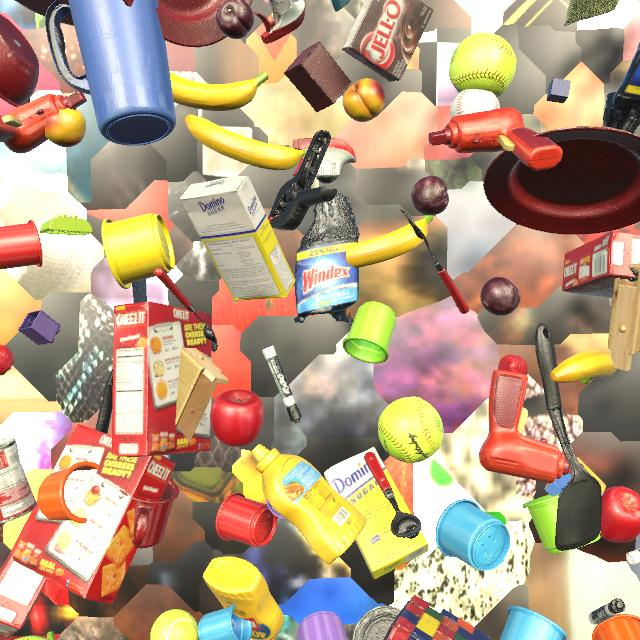ycb_002_master_chef_can: (353, 605, 401, 640)
ycb_003_cracker_box: (8, 424, 175, 604), (112, 301, 212, 458), (562, 231, 640, 298), (0, 552, 47, 638)
ycb_004_sugar_box: (180, 176, 296, 300), (324, 447, 429, 579)
ycb_005_tomato_soup_can: (0, 438, 37, 524)
ycb_006_mustard_bottle: (251, 444, 367, 564), (203, 556, 284, 640)
ycb_008_pudding_box: (341, 0, 434, 82)
ycb_011_banana: (184, 114, 306, 170), (346, 215, 433, 268), (170, 72, 269, 111), (550, 350, 617, 384), (47, 631, 55, 640)
ycb_012_strawberry: (498, 354, 528, 375), (0, 345, 14, 376)
ycb_013_apple: (210, 389, 264, 446), (600, 486, 640, 543)
ycb_015_peach: (343, 78, 385, 122), (45, 108, 86, 147)
ycb_018_plum: (480, 277, 521, 316), (411, 176, 449, 216), (216, 0, 254, 39)
